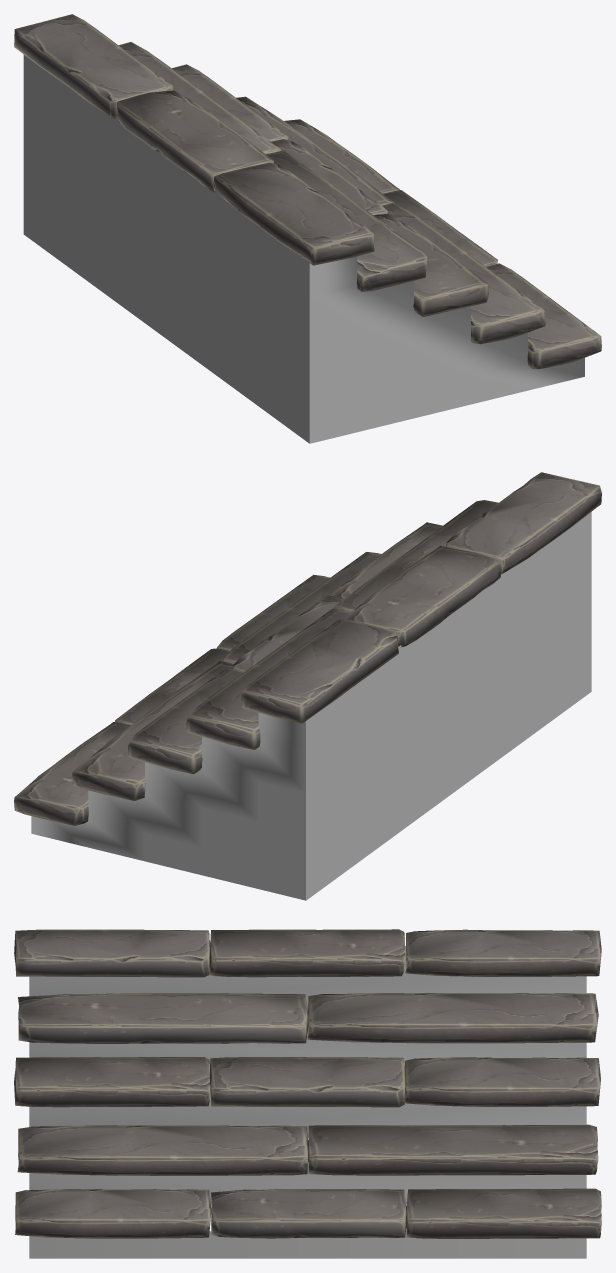
Rendered from SM_Stairs_Exterior_Bricks_01.fbx.
3 views of the same model, one above another, from view 1: azimuth 30°, elevation 25°; view 2: azimuth 150°, elevation 25°; view 3: azimuth 270°, elevation 25° (orthographic). The views are drawn at different scales.
Visible parts, largest first — view 1: SM_Stairs_Exterior_Bricks_01; view 2: SM_Stairs_Exterior_Bricks_01; view 3: SM_Stairs_Exterior_Bricks_01.
Part boxes in pixels (bbox=[...]): SM_Stairs_Exterior_Bricks_01: bbox=[14, 14, 601, 443]; SM_Stairs_Exterior_Bricks_01: bbox=[14, 472, 601, 900]; SM_Stairs_Exterior_Bricks_01: bbox=[14, 929, 601, 1258].
Bounding box in the file's own units: 1.54 × 1.02 × 2.75.
